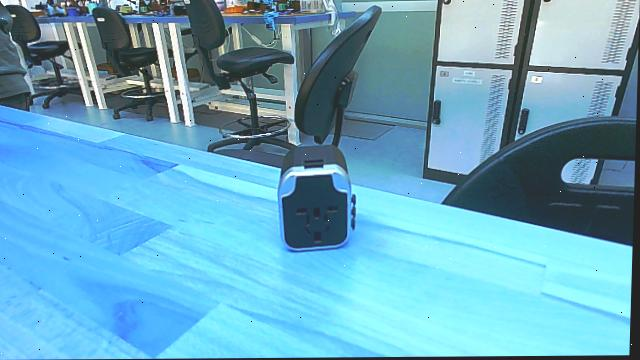adapter: (275, 142, 357, 260)
